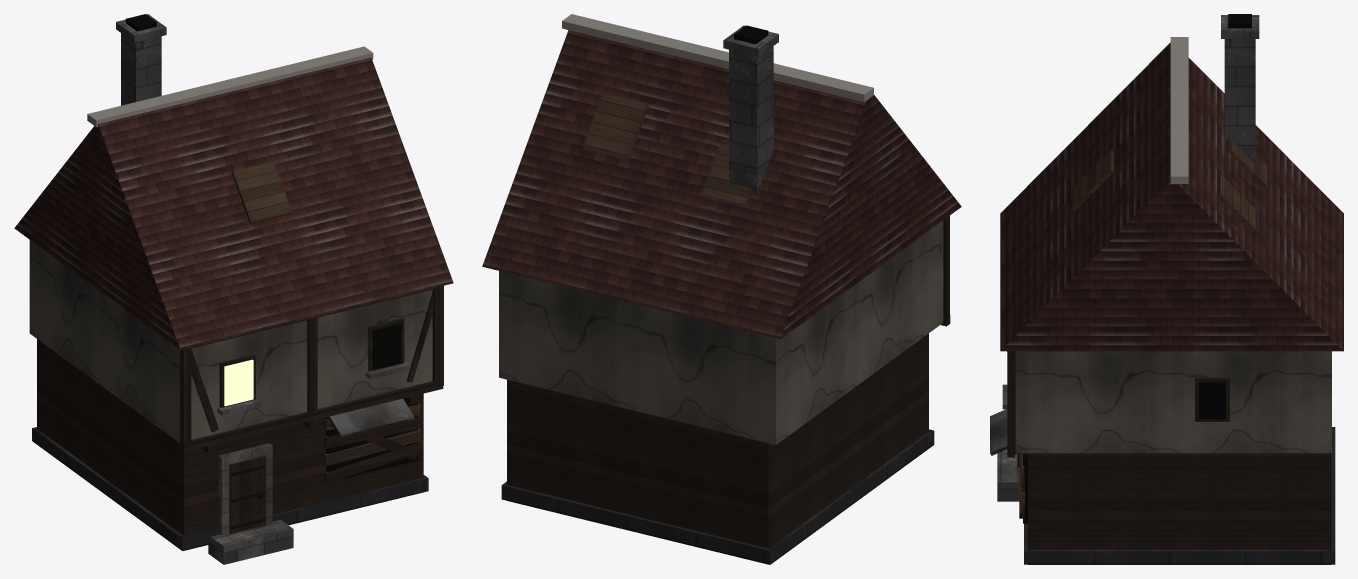
The model's file is CasaS16.gltf.
The picture shows the model from 3 angles, left to right: view 1: azimuth 30°, elevation 25°; view 2: azimuth 150°, elevation 25°; view 3: azimuth 270°, elevation 25°; orthographic projection. The views are drawn at different scales.
Parts seen in each view (by area): view 1: CasaS16; view 2: CasaS16; view 3: CasaS16.
Part boxes in pixels (<box>): CasaS16: <box>14,14,453,564</box>; CasaS16: <box>482,14,961,564</box>; CasaS16: <box>990,14,1343,564</box>.
Size of the model in its own units: 7.65 by 11.87 by 8.19.
Materials: 12 (8 with a texture image).
